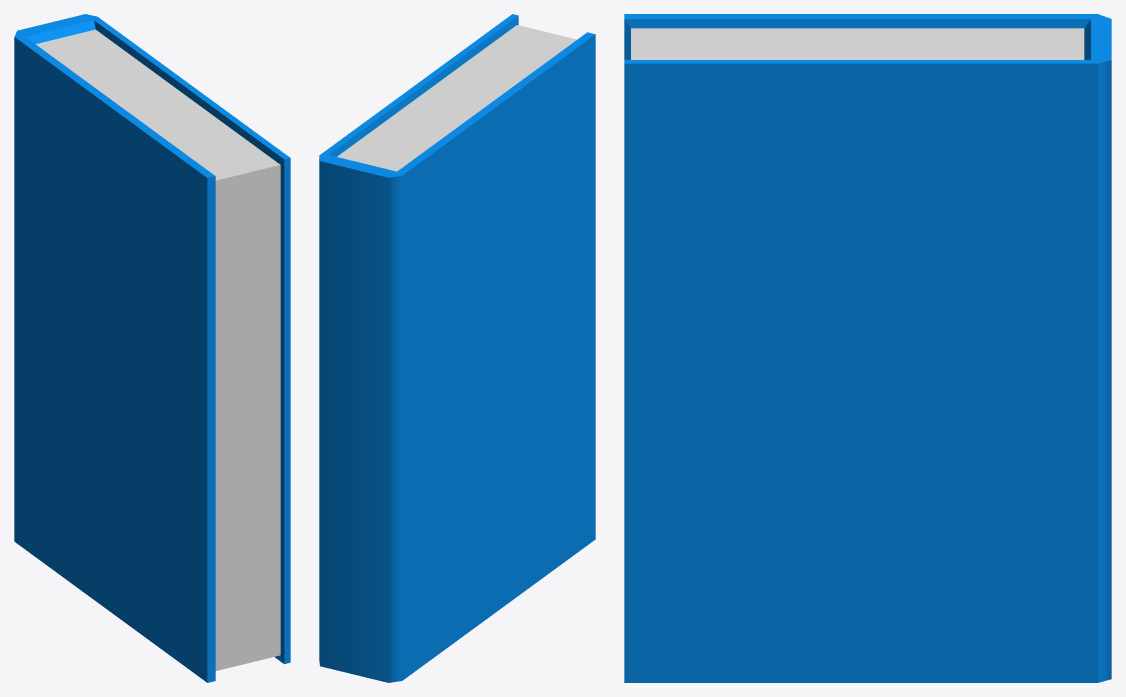
File: LibroAzulPequeño.fbx
The picture shows the model from 3 angles, left to right: view 1: azimuth 30°, elevation 25°; view 2: azimuth 150°, elevation 25°; view 3: azimuth 270°, elevation 25°; orthographic projection. The views are drawn at different scales.
Parts seen in each view (by area): view 1: pCube13; view 2: pCube13; view 3: pCube13.
Part boxes in pixels (x1=…): pCube13: x1=14, y1=14, x2=290, y2=682; pCube13: x1=319, y1=14, x2=595, y2=682; pCube13: x1=624, y1=14, x2=1111, y2=682.
Bounding box in the file's own units: 0.1204 × 0.6997 × 0.4991.
2 materials, 1 textured.
